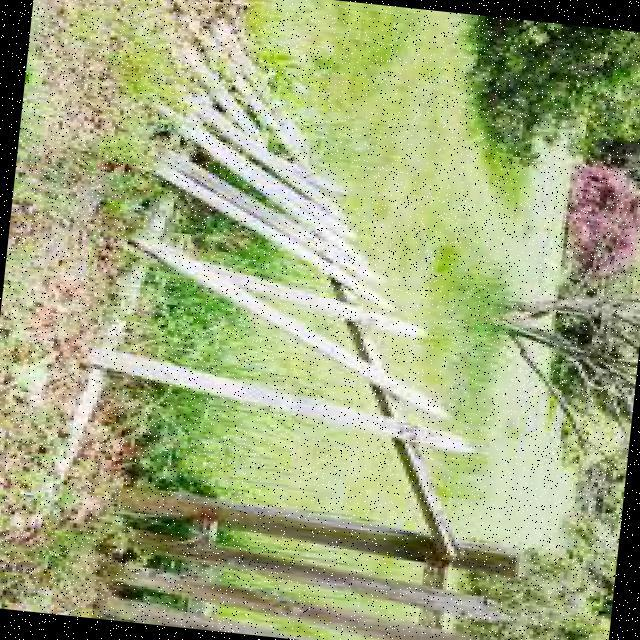fence line: (23, 31, 489, 538), (24, 40, 467, 529)
